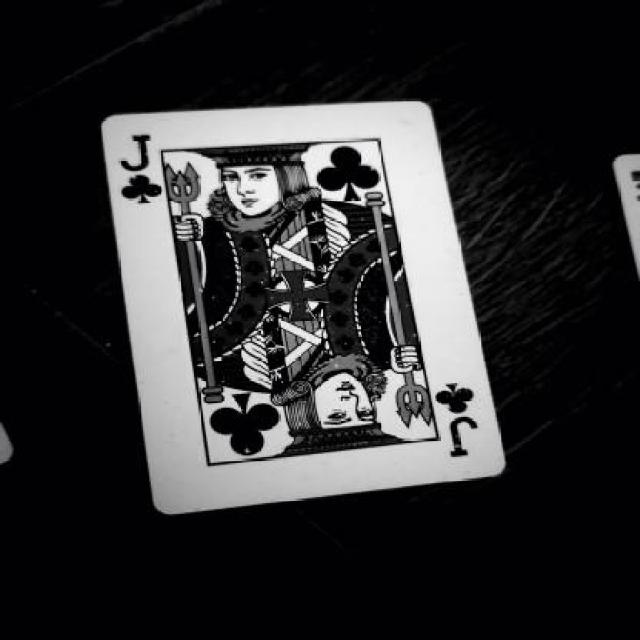JC: (426, 372, 500, 470), (118, 128, 170, 226)
